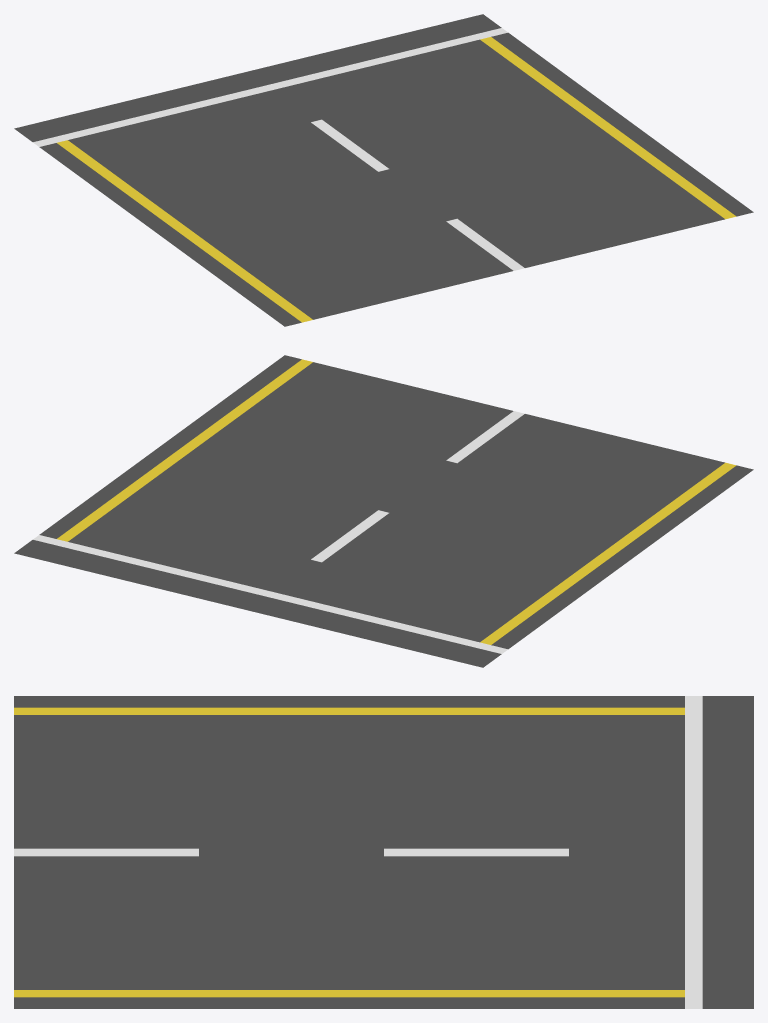
The model's file is road_003.FBX.
3 views of the same model, one above another, from view 1: azimuth 30°, elevation 25°; view 2: azimuth 150°, elevation 25°; view 3: azimuth 270°, elevation 25° (orthographic). The views are drawn at different scales.
Visible parts, largest first — view 1: road_003; view 2: road_003; view 3: road_003.
Boxes of the visible parts, left/top/right/bottom form: road_003: left=14, top=14, right=753, bottom=326; road_003: left=14, top=355, right=753, bottom=667; road_003: left=14, top=696, right=753, bottom=1008.
Size of the model in its own units: 500 by 2.19e-05 by 500.
